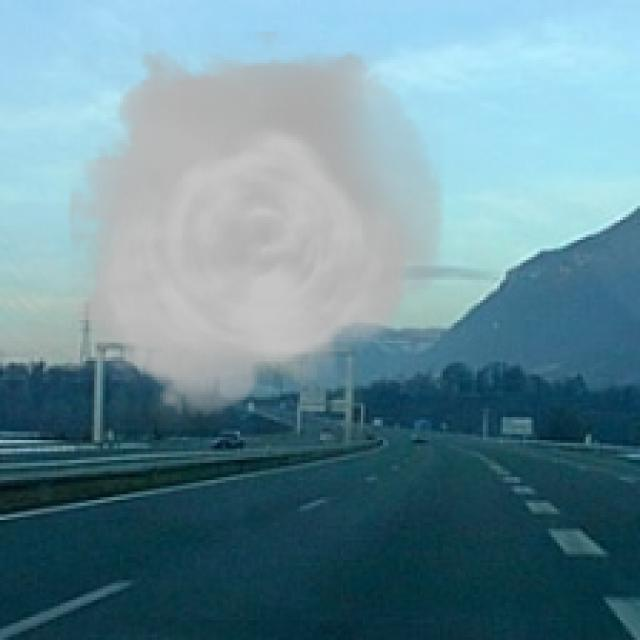smoke: (68, 31, 446, 428)
